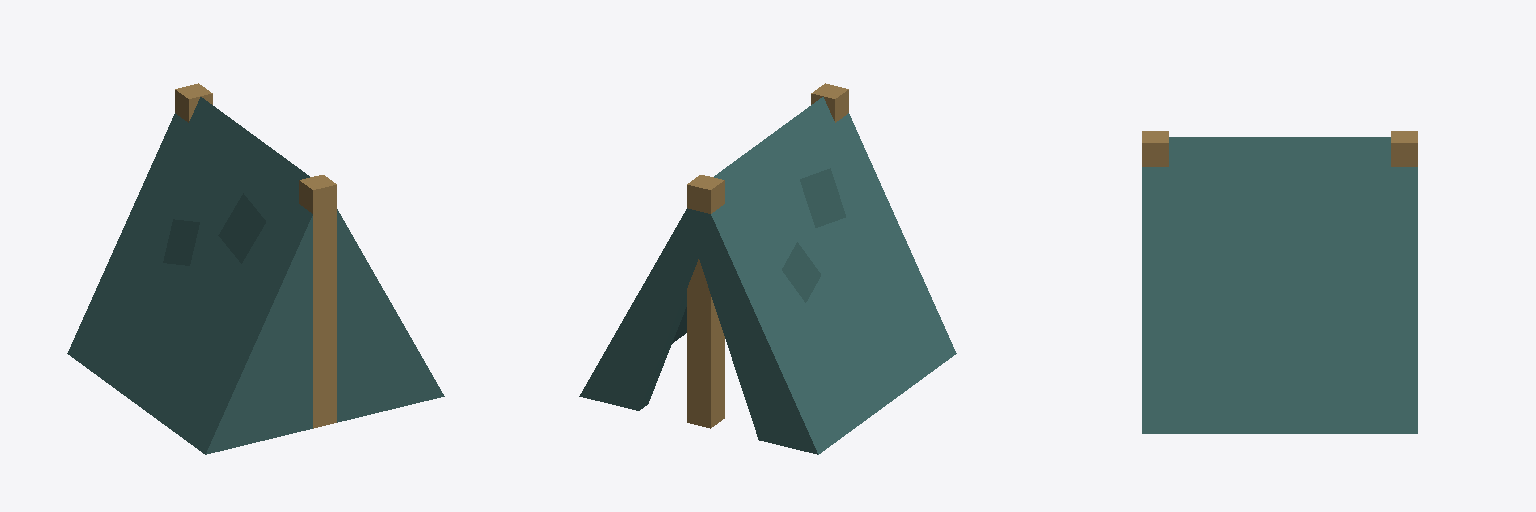
File: Tent_Poles_01.obj
3 renders of one model, left to right at view 1: azimuth 30°, elevation 25°; view 2: azimuth 150°, elevation 25°; view 3: azimuth 270°, elevation 25°, orthographic.
Visible parts, largest first — view 1: Mesh1_Green_Roof, Mesh1_Wood.001, Mesh1_Leafs; view 2: Mesh1_Green_Roof, Mesh1_Wood.001, Mesh1_Leafs; view 3: Mesh1_Green_Roof, Mesh1_Wood.001.
Boxes of the visible parts, <box> form: Mesh1_Green_Roof: <box>67,97,444,454</box>; Mesh1_Wood.001: <box>175,83,336,428</box>; Mesh1_Leafs: <box>163,193,265,265</box>; Mesh1_Green_Roof: <box>579,97,956,454</box>; Mesh1_Wood.001: <box>687,83,848,428</box>; Mesh1_Leafs: <box>782,168,845,302</box>; Mesh1_Green_Roof: <box>1142,137,1417,433</box>; Mesh1_Wood.001: <box>1142,131,1417,166</box>.
Size of the model in its own units: 3 by 2.85 by 3.